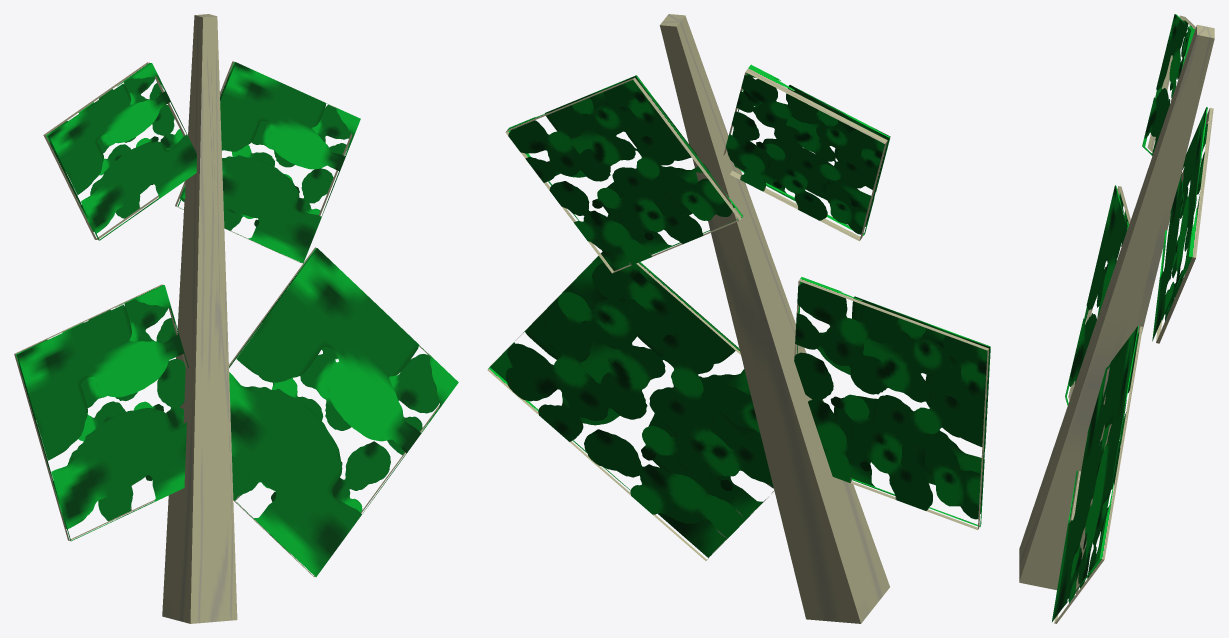
File: ObjectBirchTreeBranch2.obj
3 views of the same model, side by side, from view 1: azimuth 30°, elevation 25°; view 2: azimuth 150°, elevation 25°; view 3: azimuth 270°, elevation 25° (orthographic). The views are drawn at different scales.
Parts seen in each view (by area): view 1: Cube.002, Cube, Cube.004, Cube.003, Cube.001; view 2: Cube.002, Cube, Cube.004, Cube.003, Cube.001; view 3: Cube, Cube.002, Cube.003, Cube.004, Cube.001.
Boxes of the visible parts, x1,y1,x2,y2 form: Cube.002: (229,247,458,576); Cube: (162,14,237,623); Cube.004: (14,284,188,541); Cube.003: (175,61,360,263); Cube.001: (43,62,196,240); Cube.002: (487,251,773,560); Cube: (659,14,889,623); Cube.004: (794,277,990,529); Cube.003: (505,75,743,273); Cube.001: (723,64,890,241); Cube: (1019,24,1214,593); Cube.002: (1052,326,1142,623); Cube.003: (1152,107,1213,343); Cube.004: (1065,185,1130,405); Cube.001: (1142,14,1195,155).
Size of the model in its own units: 4.14 by 4.94 by 1.47.
